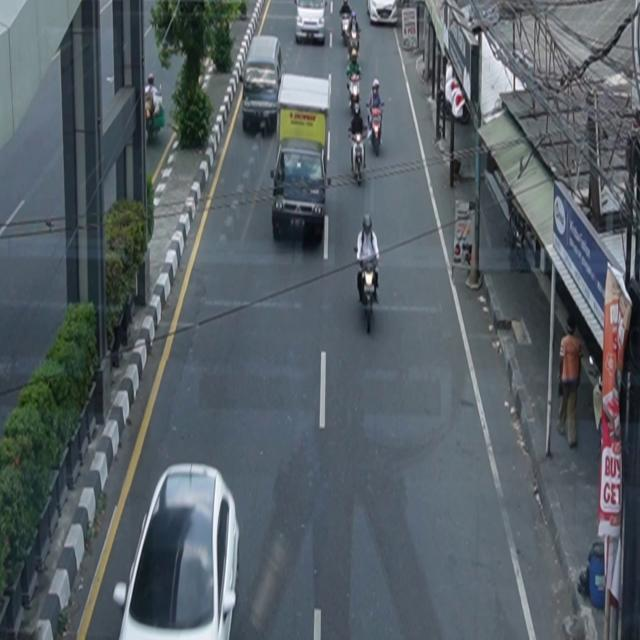car: (113, 463, 241, 640), (271, 137, 329, 242)
